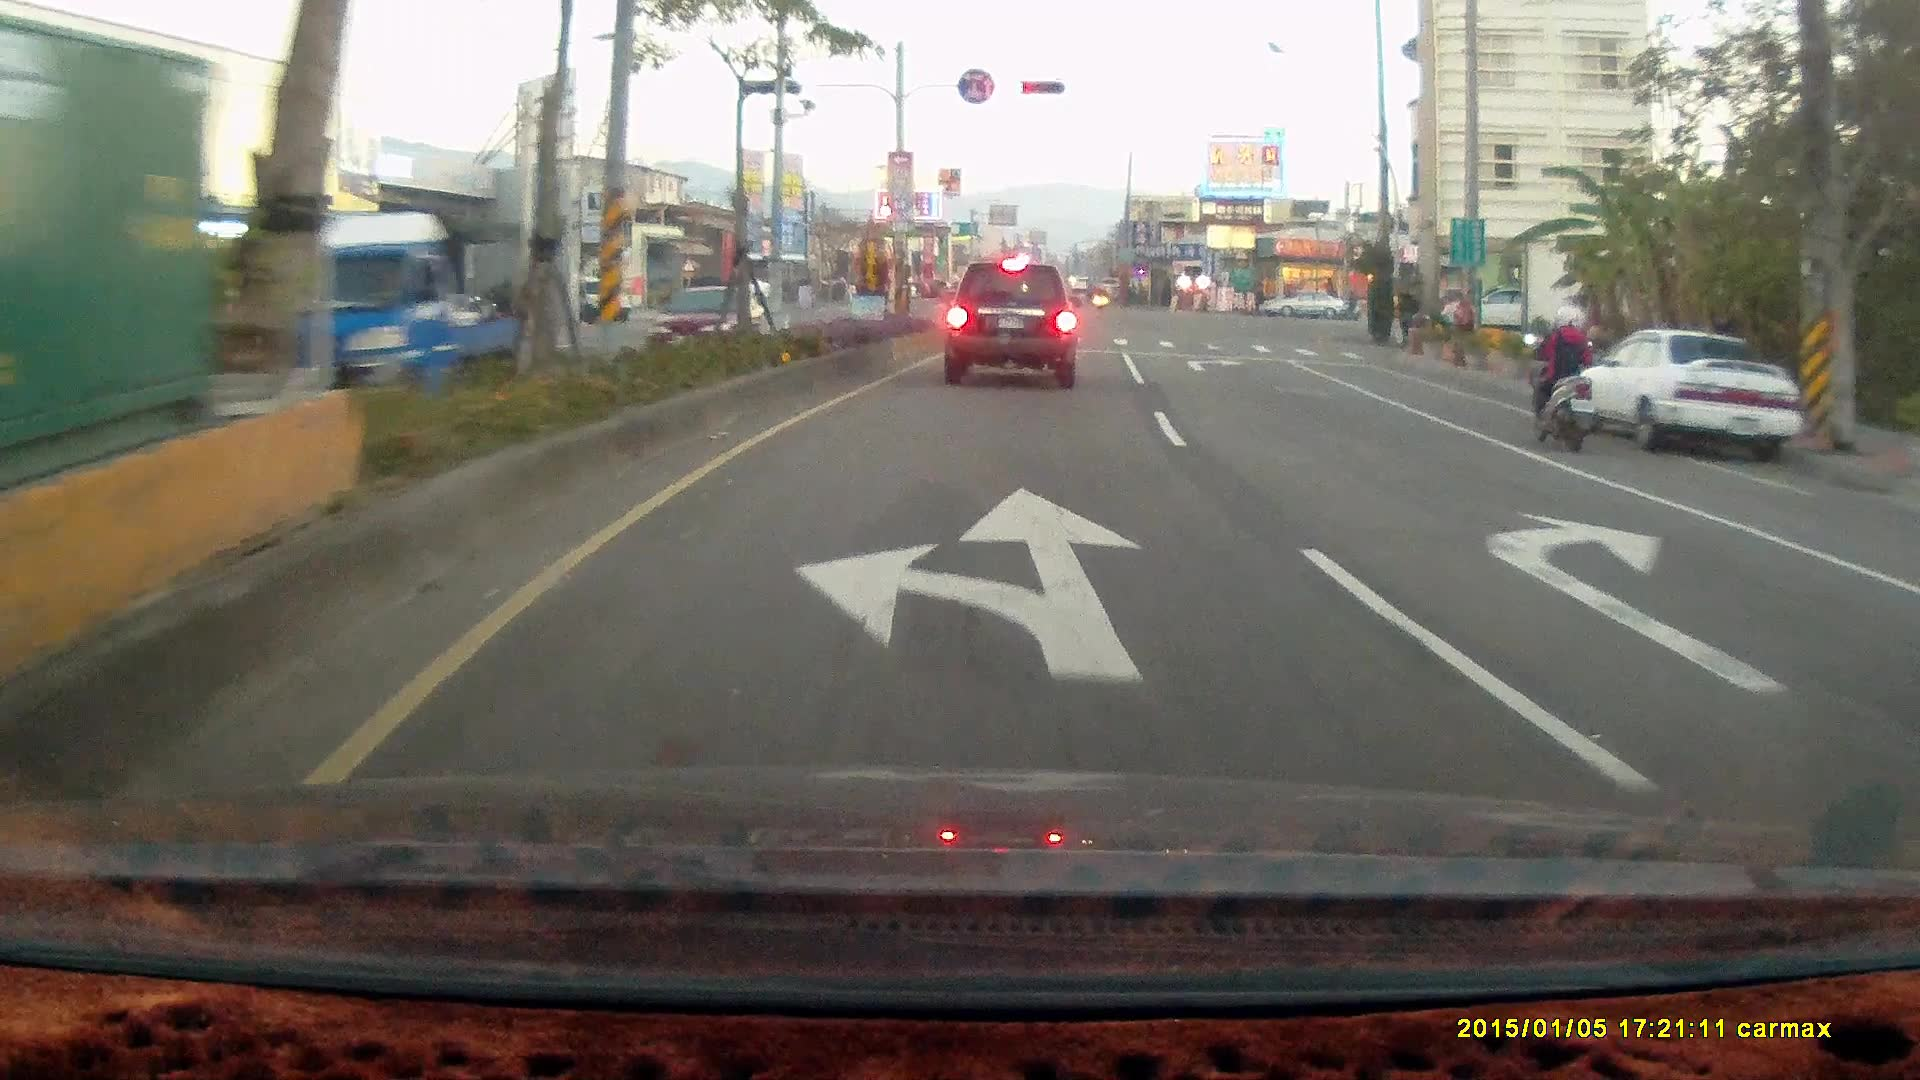rider: (1519, 306, 1600, 456), (1333, 286, 1361, 320)
vehicle: (249, 211, 537, 404), (1556, 324, 1805, 468), (1559, 323, 1806, 463), (941, 260, 1078, 389), (1896, 493, 1920, 836), (1883, 528, 1920, 690), (1441, 285, 1550, 334), (1259, 286, 1345, 320)
